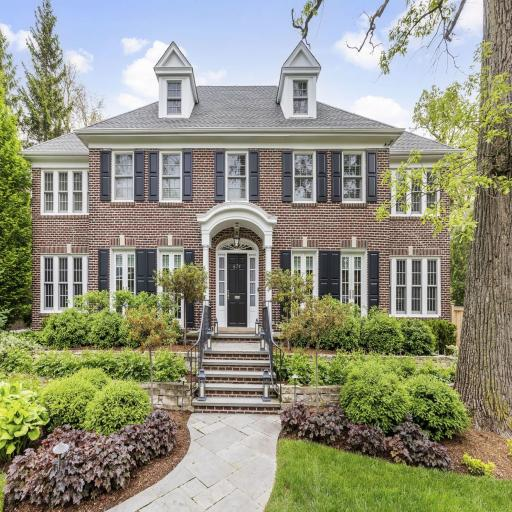casa: (28, 38, 456, 341)
